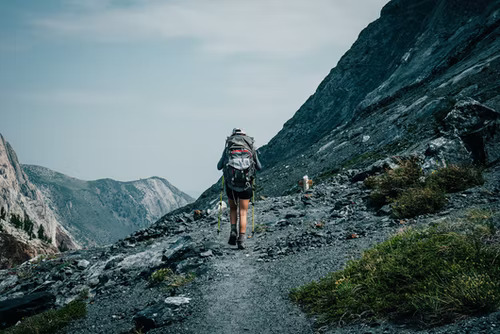person: (217, 127, 262, 248)
